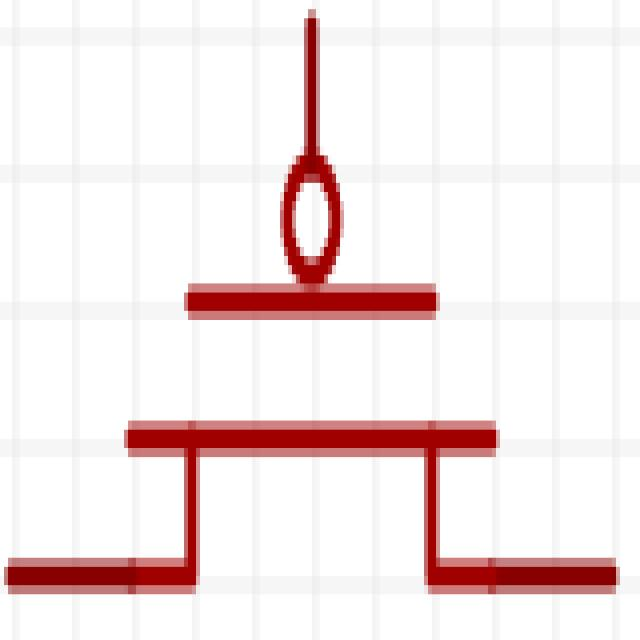pmos: (39, 38, 523, 640)
